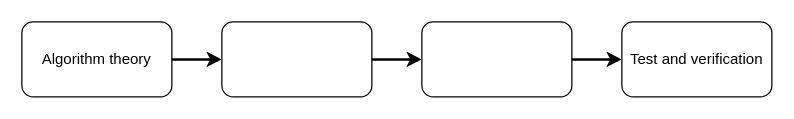
This 794x119 diagram has some shape labels left out. Each missing label, with the centre of its shape:
Implementation description: point (496, 59)
Practical considerations: point (296, 59)
